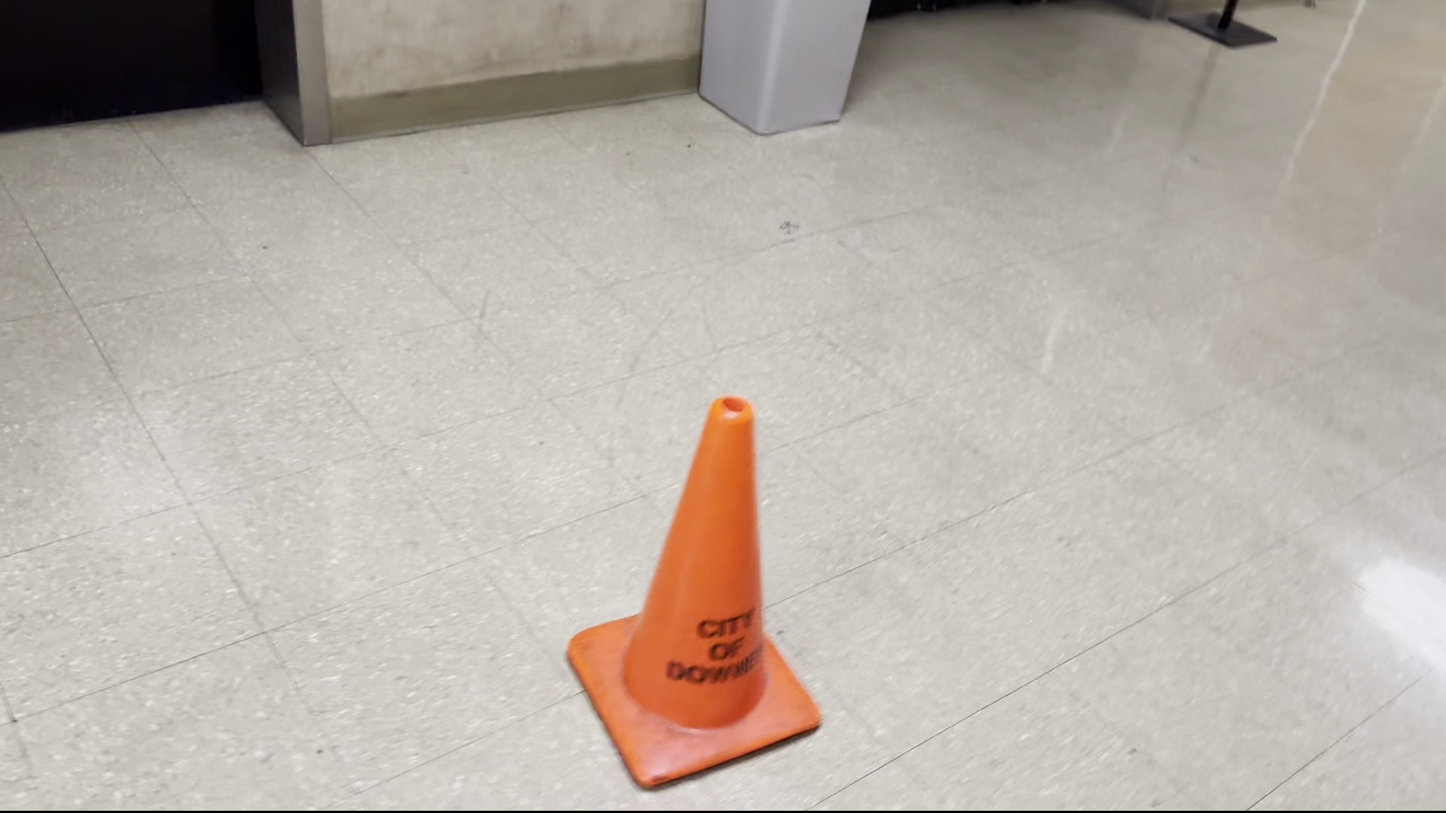traffic_cone: (566, 395, 823, 791)
